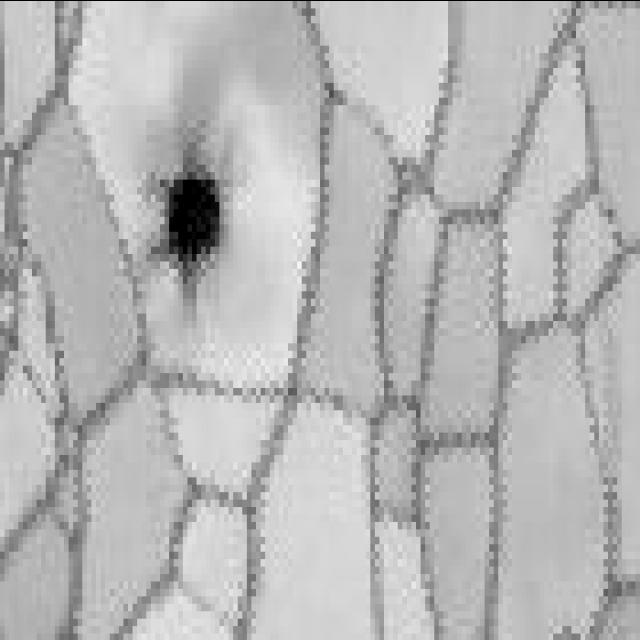good_void: (138, 119, 230, 299)
